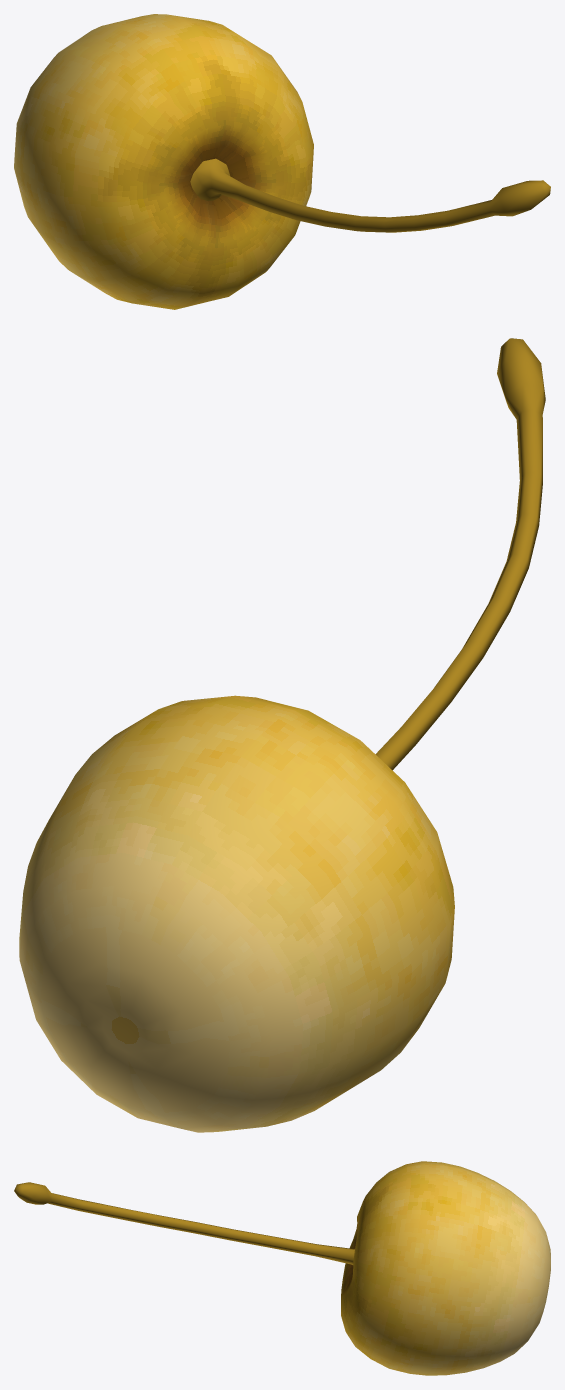
Rendered from Thystame.glb.
3 renders of one model, top to bottom at view 1: azimuth 30°, elevation 25°; view 2: azimuth 150°, elevation 25°; view 3: azimuth 270°, elevation 25°, orthographic. The views are drawn at different scales.
Visible parts, largest first — view 1: Thystame; view 2: Thystame; view 3: Thystame.
Boxes of the visible parts, box(x1,y1,x2,y2) form: Thystame: box(14, 14, 550, 309); Thystame: box(19, 338, 545, 1132); Thystame: box(14, 1161, 550, 1375).
Bounding box in the file's own units: 0.2684 × 0.2948 × 0.6712.
2 materials, 2 textured.
